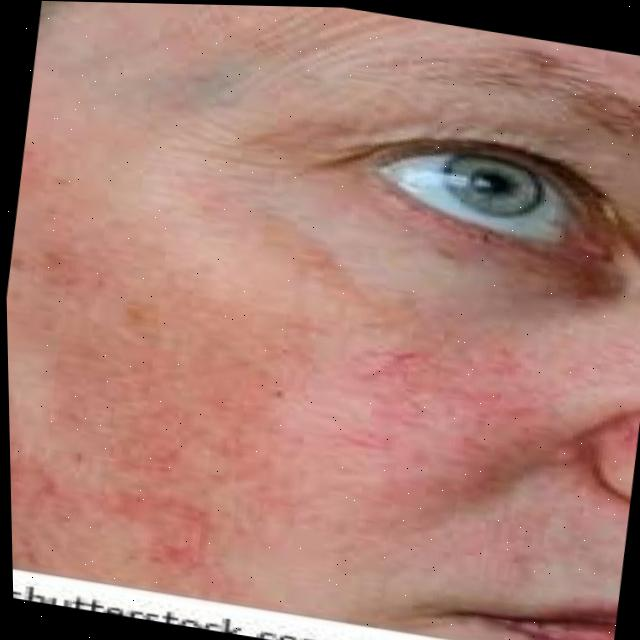Rosacea: (5, 243, 555, 617)
